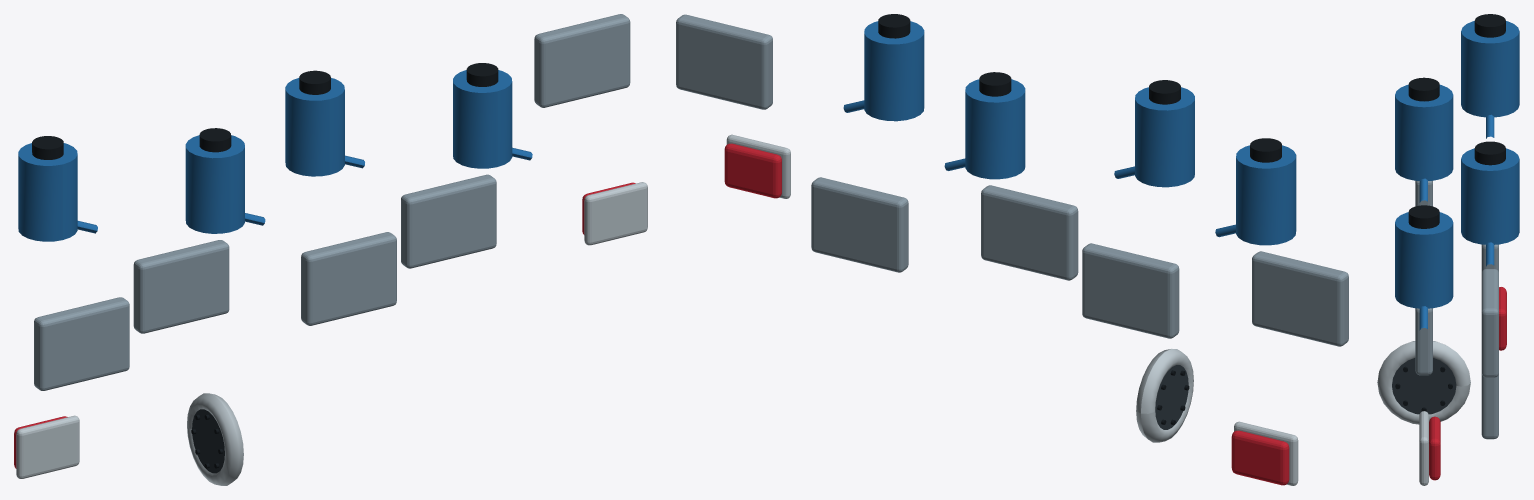
Rendered from generic_fluids.glb.
The picture shows the model from 3 angles, left to right: view 1: azimuth 30°, elevation 25°; view 2: azimuth 150°, elevation 25°; view 3: azimuth 270°, elevation 25°; orthographic projection. The views are drawn at different scales.
Visible parts, largest first — view 1: system_mesh__oil_filter__frame, system_mesh__fuel_filter__frame, system_mesh__cabin_filter__frame, system_mesh__transmission_filter__frame, system_mesh__air_filter__frame, system_mesh__ac_oil__reservoir, system_mesh__engine_oil__reservoir, system_mesh__brake_fluid__reservoir, system_mesh__bearing_grease__reservoir, system_mesh__brake_shoes__backing_plate, system_mesh__brake_pads__backing_plate, system_mesh__brake_discs__friction_ring (+5 smaller); view 2: system_mesh__transmission_filter__frame, system_mesh__fuel_filter__frame, system_mesh__cabin_filter__frame, system_mesh__oil_filter__frame, system_mesh__air_filter__frame, system_mesh__ac_oil__reservoir, system_mesh__bearing_grease__reservoir, system_mesh__engine_oil__reservoir, system_mesh__brake_fluid__reservoir, system_mesh__brake_discs__friction_ring, system_mesh__brake_shoes__friction_material, system_mesh__brake_pads__friction_material (+7 smaller); view 3: system_mesh__bearing_grease__reservoir, system_mesh__brake_fluid__reservoir, system_mesh__engine_oil__reservoir, system_mesh__ac_oil__reservoir, system_mesh__brake_discs__friction_ring, system_mesh__brake_discs__hub, system_mesh__oil_filter__frame, system_mesh__transmission_filter__frame, system_mesh__cabin_filter__frame, system_mesh__brake_pads__friction_material, system_mesh__brake_pads__backing_plate, system_mesh__ac_oil__cap (+10 smaller).
Part boxes in pixels (x1,y1,x2,y2): system_mesh__oil_filter__frame: (534,14,630,107); system_mesh__fuel_filter__frame: (133,240,229,333); system_mesh__cabin_filter__frame: (301,232,396,325); system_mesh__transmission_filter__frame: (401,174,496,268); system_mesh__air_filter__frame: (34,297,129,390); system_mesh__ac_oil__reservoir: (285,78,344,176); system_mesh__engine_oil__reservoir: (18,143,77,241); system_mesh__brake_fluid__reservoir: (185,135,244,233); system_mesh__bearing_grease__reservoir: (453,70,512,168); system_mesh__brake_shoes__backing_plate: (16,415,79,478); system_mesh__brake_pads__backing_plate: (584,182,647,245); system_mesh__brake_discs__friction_ring: (187,393,243,485); system_mesh__transmission_filter__frame: (811,177,908,272); system_mesh__fuel_filter__frame: (1082,243,1179,338); system_mesh__cabin_filter__frame: (981,185,1078,280); system_mesh__oil_filter__frame: (676,14,772,109); system_mesh__air_filter__frame: (1252,251,1348,346); system_mesh__ac_oil__reservoir: (965,79,1025,179); system_mesh__bearing_grease__reservoir: (864,21,924,121); system_mesh__engine_oil__reservoir: (1236,145,1296,245); system_mesh__brake_fluid__reservoir: (1135,87,1194,187); system_mesh__brake_discs__friction_ring: (1136,348,1193,442); system_mesh__brake_shoes__friction_material: (1231,430,1289,485); system_mesh__brake_pads__friction_material: (724,143,781,198); system_mesh__bearing_grease__reservoir: (1395,212,1453,308); system_mesh__brake_fluid__reservoir: (1395,84,1453,180); system_mesh__engine_oil__reservoir: (1461,21,1519,117); system_mesh__ac_oil__reservoir: (1461,148,1519,244); system_mesh__brake_discs__friction_ring: (1377,341,1470,424); system_mesh__brake_discs__hub: (1392,358,1456,414); system_mesh__oil_filter__frame: (1481,269,1498,377); system_mesh__transmission_filter__frame: (1481,374,1498,439); system_mesh__cabin_filter__frame: (1415,308,1432,375); system_mesh__brake_pads__friction_material: (1429,416,1440,480); system_mesh__brake_pads__backing_plate: (1419,411,1428,485); system_mesh__ac_oil__cap: (1474,141,1505,165).
Size of the model in its own units: 7.25 by 3.86 by 1.46.
